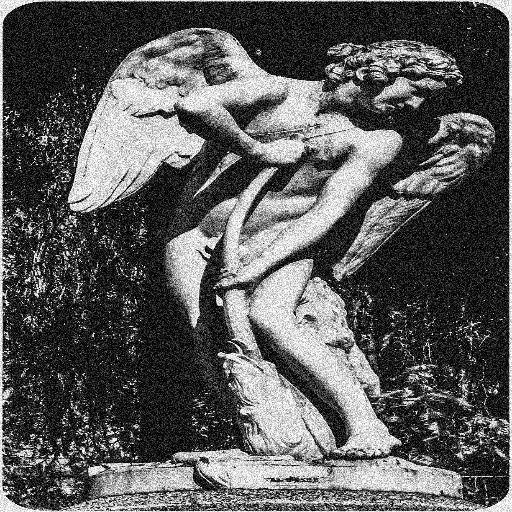hand: (208, 262, 267, 294), (255, 135, 304, 158)
